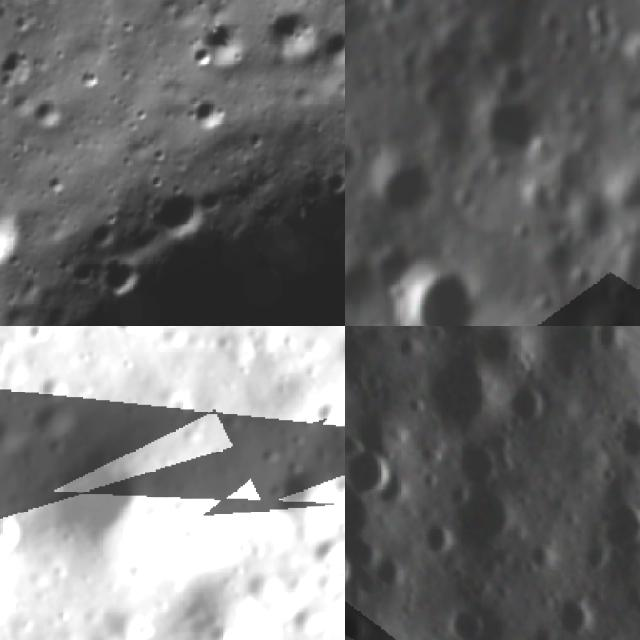crater: (430, 432, 538, 556), (44, 436, 158, 546), (385, 245, 484, 326), (370, 141, 450, 219), (466, 88, 547, 164), (135, 178, 212, 239), (257, 2, 329, 66), (272, 472, 345, 534), (498, 375, 557, 439), (90, 244, 151, 304), (556, 130, 613, 194), (345, 443, 401, 504), (508, 161, 565, 220), (596, 491, 640, 564), (345, 255, 389, 316), (0, 177, 26, 280), (441, 598, 501, 640), (182, 89, 230, 138), (200, 21, 249, 68), (0, 41, 43, 90), (610, 407, 640, 467), (32, 370, 74, 410), (296, 395, 345, 428), (0, 501, 22, 555), (378, 0, 425, 25), (345, 128, 364, 179), (620, 29, 640, 75), (345, 540, 359, 601), (345, 353, 357, 399), (596, 314, 640, 326), (206, 622, 235, 640), (27, 326, 48, 343), (113, 326, 139, 334)
